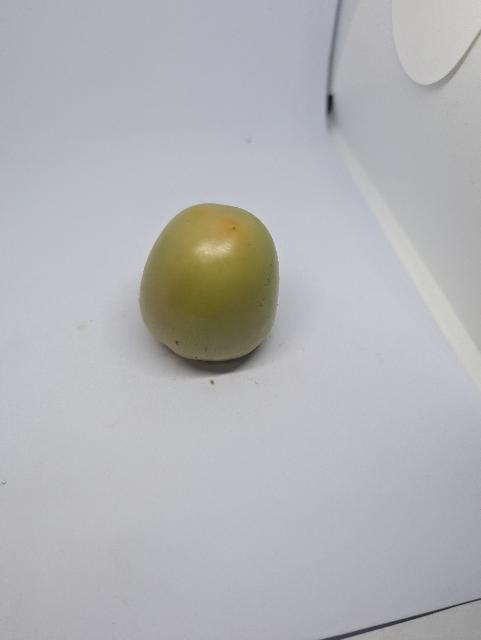breaker: (137, 200, 289, 366)
